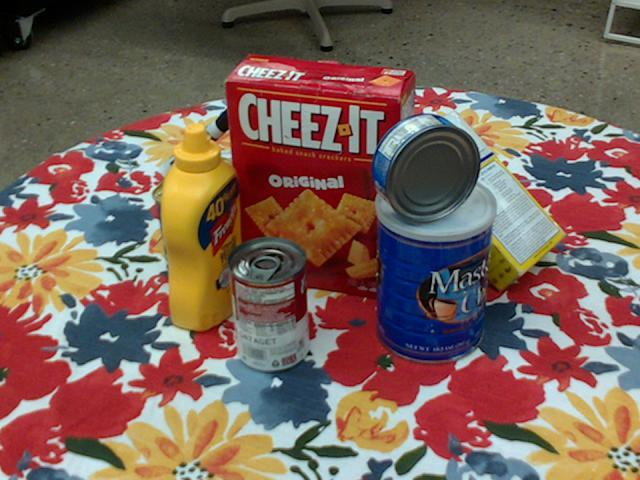cracker_box: (227, 55, 418, 296)
gelatin_box: (211, 146, 294, 218)
large_marker: (160, 104, 245, 178)
master_chef_can: (374, 173, 495, 367)
mug: (362, 131, 449, 231)
mustard_bottle: (160, 124, 244, 332)
potted_meat_can: (151, 154, 236, 271)
sugar_box: (387, 111, 569, 294)
tomato_soup_can: (225, 237, 308, 373)
tuna_fish_can: (373, 113, 482, 223)
